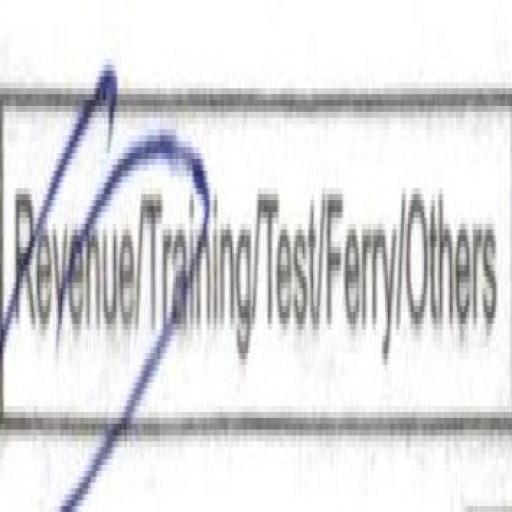check: (0, 65, 139, 494)
